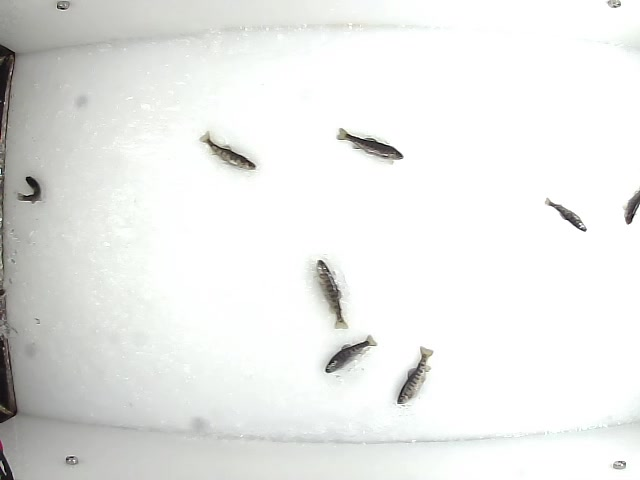fish: (312, 258, 350, 333), (198, 130, 258, 175), (334, 125, 406, 162), (393, 343, 434, 407), (323, 330, 378, 374), (541, 195, 588, 233), (13, 169, 43, 204)
